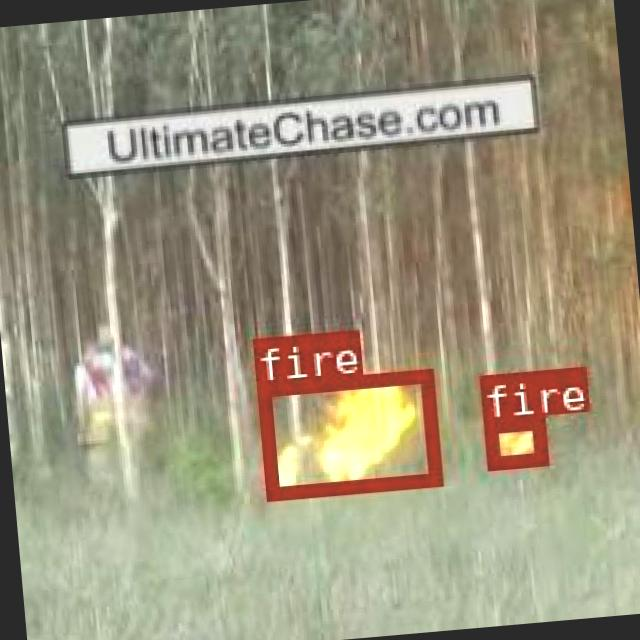fire: (255, 367, 438, 497), (482, 412, 544, 466)
